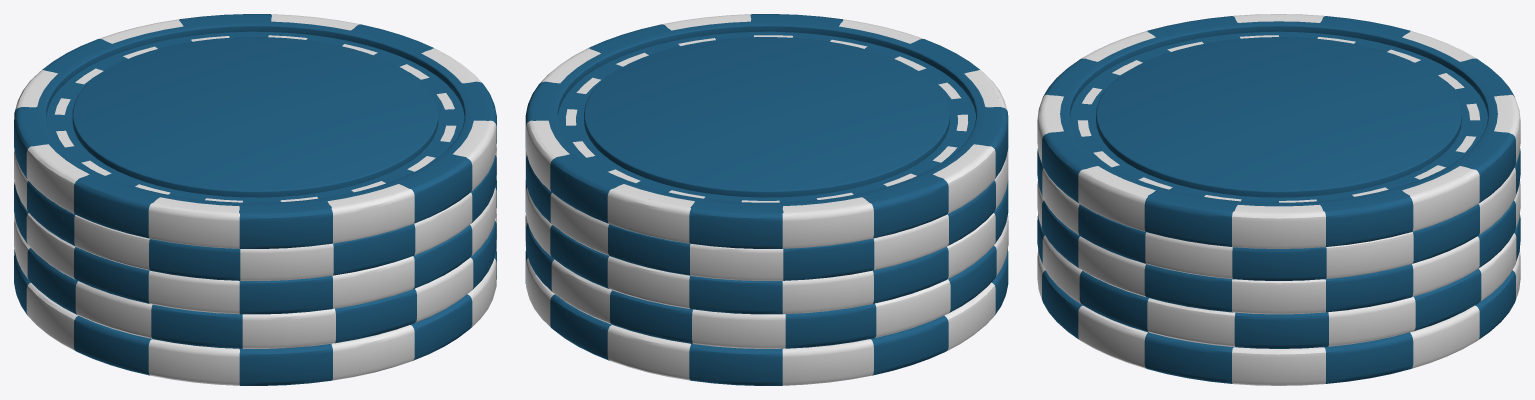
The model's file is Blue Stack.fbx.
3 views of the same model, side by side, from view 1: azimuth 30°, elevation 25°; view 2: azimuth 150°, elevation 25°; view 3: azimuth 270°, elevation 25° (orthographic).
Visible parts, largest first — view 1: Chip.055, Chip.051, Chip.052, Chip.053, Chip.054; view 2: Chip.055, Chip.051, Chip.052, Chip.053, Chip.054; view 3: Chip.055, Chip.051, Chip.052, Chip.053, Chip.054.
Boxes of the visible parts, x1,y1,x2,y2 form: Chip.055: (14, 14, 496, 248); Chip.051: (14, 249, 496, 385); Chip.052: (14, 214, 496, 348); Chip.053: (14, 180, 496, 314); Chip.054: (14, 147, 496, 280); Chip.055: (525, 14, 1008, 248); Chip.051: (525, 249, 1008, 385); Chip.052: (525, 214, 1008, 348); Chip.053: (525, 180, 1008, 314); Chip.054: (525, 148, 1008, 280); Chip.055: (1037, 14, 1520, 248); Chip.051: (1037, 250, 1520, 385); Chip.052: (1037, 214, 1520, 348); Chip.053: (1037, 181, 1520, 314); Chip.054: (1037, 148, 1520, 280).
Bounding box in the file's own units: 8.02 × 3.16 × 8.02.
